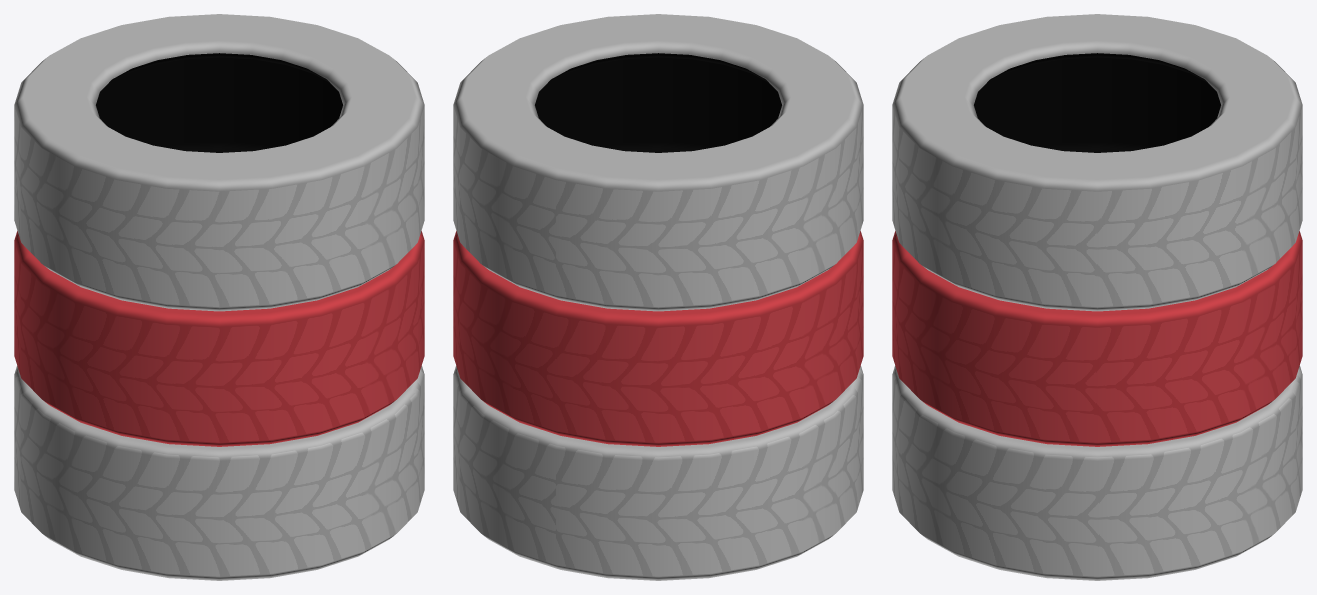
File: Tire-barrier_2-color-B.fbx
3 views of the same model, side by side, from view 1: azimuth 30°, elevation 25°; view 2: azimuth 150°, elevation 25°; view 3: azimuth 270°, elevation 25° (orthographic).
Visible parts, largest first — view 1: Tire-barrier_2-color-B; view 2: Tire-barrier_2-color-B; view 3: Tire-barrier_2-color-B.
Part boxes in pixels (x1,y1,x2,y2): Tire-barrier_2-color-B: (14, 14, 424, 580); Tire-barrier_2-color-B: (453, 14, 863, 580); Tire-barrier_2-color-B: (892, 14, 1302, 580).
Size of the model in its own units: 91.6 by 98.8 by 91.6.
